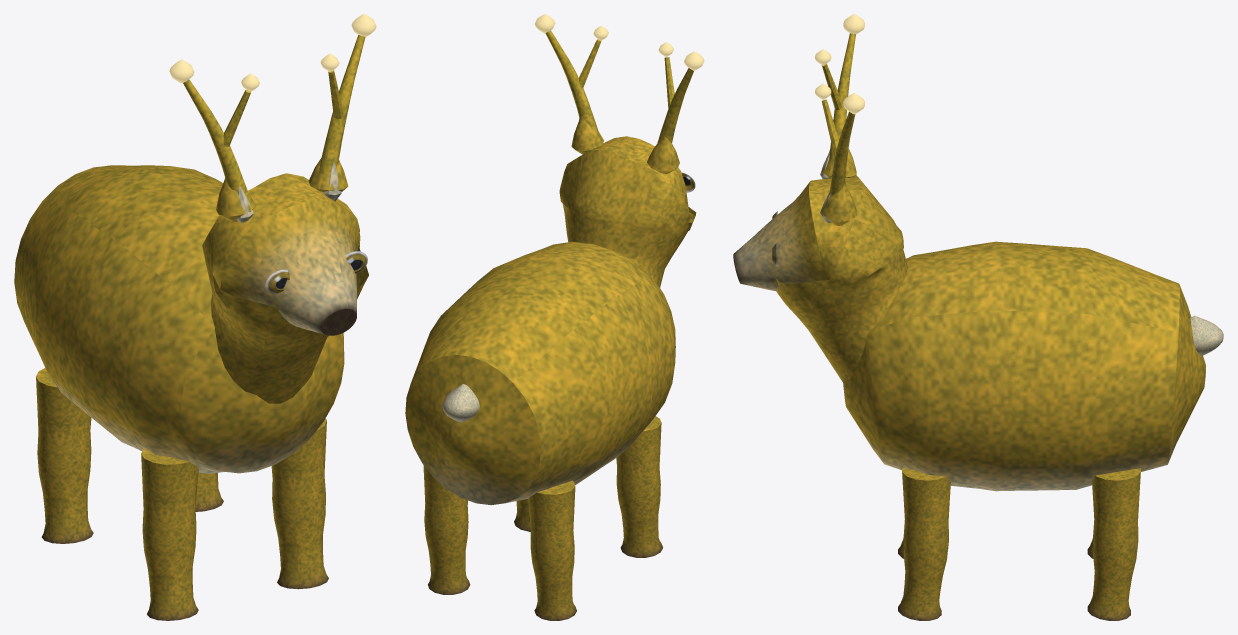
Rendered from sp_denjika-xcvghwkz.glb.
The picture shows the model from 3 angles, left to right: view 1: azimuth 30°, elevation 25°; view 2: azimuth 150°, elevation 25°; view 3: azimuth 270°, elevation 25°; orthographic projection. The views are drawn at different scales.
Visible parts, largest first — view 1: Torso, HeadMesh, Leg-1_-0.17, Leg-1_0.16, Leg1_-0.17, Antlers, AntlerTips, Leg1_0.16; view 2: Torso, HeadMesh, Leg-1_0.16, Leg-1_-0.17, Leg1_0.16, Antlers, TailMesh, AntlerTips, Leg1_-0.17; view 3: Torso, HeadMesh, Leg1_0.16, Leg1_-0.17, Antlers, AntlerTips, TailMesh.
Part boxes in pixels (left/top/right/bottom): Torso: left=14, top=165, right=344, bottom=473; HeadMesh: left=202, top=158, right=368, bottom=403; Leg-1_-0.17: left=141, top=448, right=198, bottom=620; Leg-1_0.16: left=36, top=368, right=93, bottom=543; Leg1_-0.17: left=271, top=418, right=328, bottom=589; Antlers: left=183, top=35, right=365, bottom=210; AntlerTips: left=169, top=14, right=376, bottom=91; Leg1_0.16: left=195, top=472, right=223, bottom=511; Torso: left=405, top=241, right=675, bottom=505; HeadMesh: left=559, top=116, right=696, bottom=287; Leg-1_0.16: left=528, top=480, right=576, bottom=620; Leg-1_-0.17: left=616, top=416, right=662, bottom=557; Leg1_0.16: left=423, top=465, right=470, bottom=594; Antlers: left=545, top=30, right=693, bottom=143; TailMesh: left=442, top=384, right=479, bottom=422; AntlerTips: left=534, top=14, right=704, bottom=70; Leg1_-0.17: left=514, top=499, right=530, bottom=531; Torso: left=843, top=241, right=1205, bottom=491; HeadMesh: left=733, top=149, right=907, bottom=381; Leg1_0.16: left=1087, top=468, right=1140, bottom=620; Leg1_-0.17: left=898, top=467, right=950, bottom=620; Antlers: left=821, top=33, right=855, bottom=195; AntlerTips: left=815, top=14, right=864, bottom=114; TailMesh: left=1190, top=315, right=1223, bottom=355.
Bounding box in the file's own units: 0.43 × 1.02 × 0.8546.
Materials: 2 (2 with a texture image).
